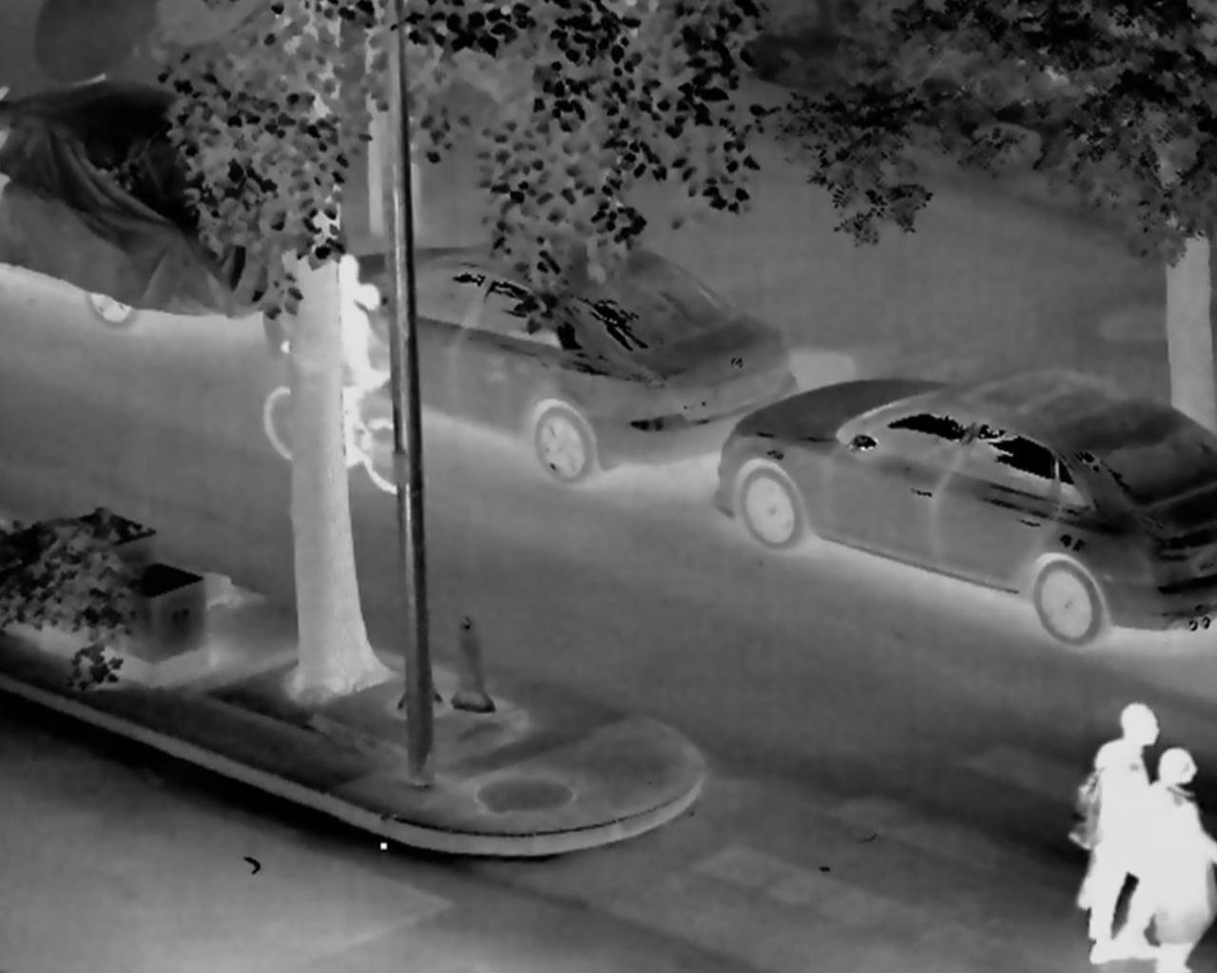person: (287, 216, 409, 484), (1080, 689, 1149, 973), (1153, 748, 1211, 973)
